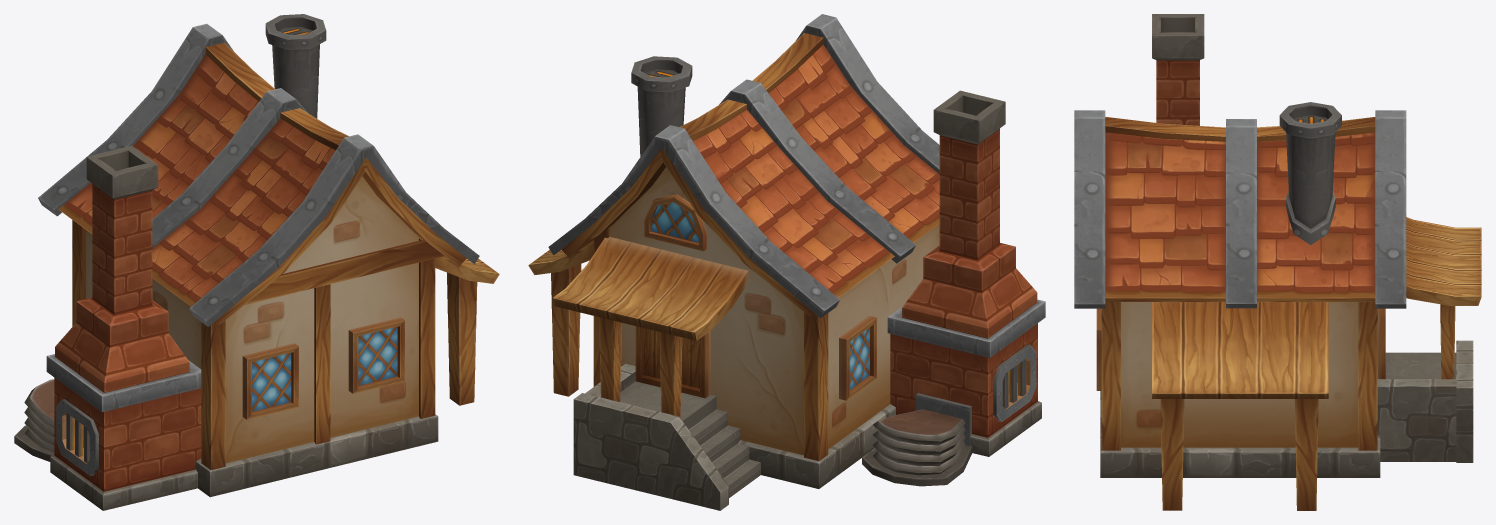
File: Forge.FBX
3 views of the same model, side by side, from view 1: azimuth 30°, elevation 25°; view 2: azimuth 150°, elevation 25°; view 3: azimuth 270°, elevation 25° (orthographic).
Visible parts, largest first — view 1: Forge; view 2: Forge; view 3: Forge.
Boxes of the visible parts, x1,y1,x2,y2 form: Forge: (14, 14, 499, 510); Forge: (528, 14, 1045, 510); Forge: (1074, 14, 1481, 510).
Size of what is drawn, in the model's own units: 1087 by 934 by 874.
